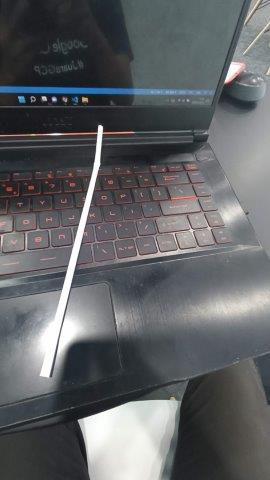sedotan: (40, 126, 104, 379)
